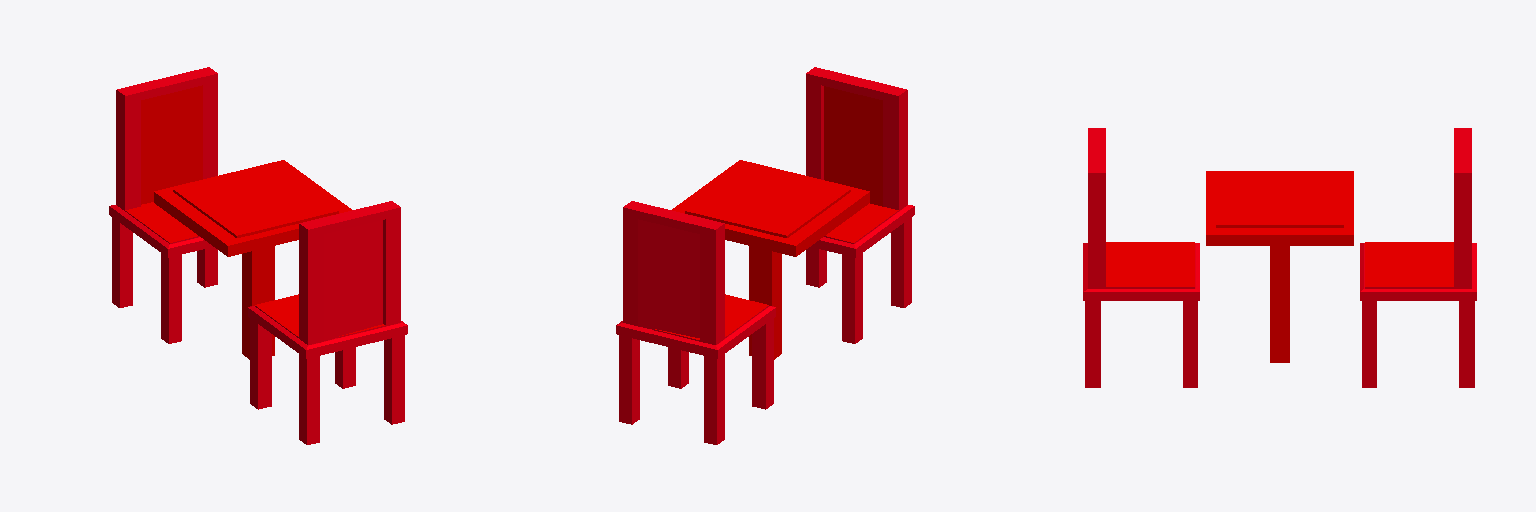
File: basicTable.obj
The picture shows the model from 3 angles: view 1: azimuth 30°, elevation 25°; view 2: azimuth 150°, elevation 25°; view 3: azimuth 270°, elevation 25°; orthographic projection.
Parts seen in each view (by area): view 1: Cube.006_Cube.037; view 2: Cube.006_Cube.037; view 3: Cube.006_Cube.037.
Part boxes in pixels (bbox=[...]): Cube.006_Cube.037: bbox=[109, 67, 407, 444]; Cube.006_Cube.037: bbox=[616, 67, 914, 444]; Cube.006_Cube.037: bbox=[1083, 128, 1476, 387].
Bounding box in the file's own units: 0.3264 × 0.5121 × 0.8548.